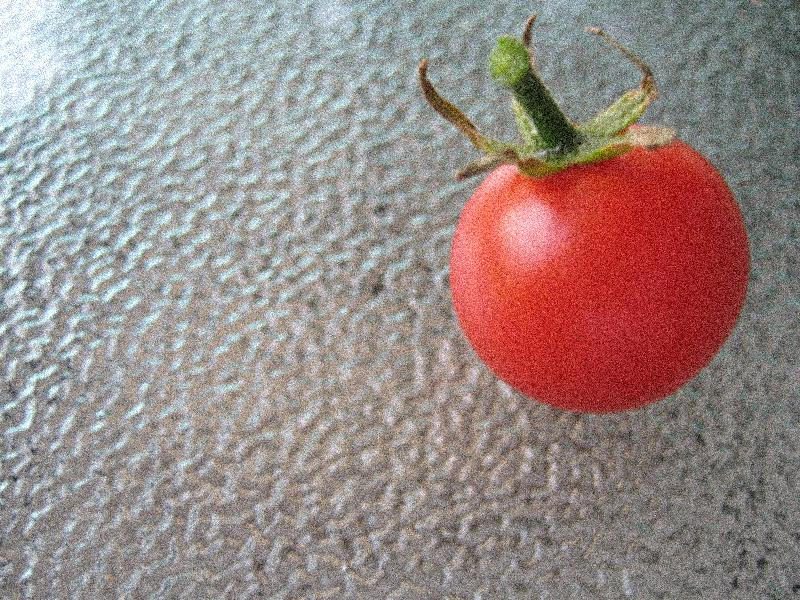Tomato: (445, 139, 747, 414)
